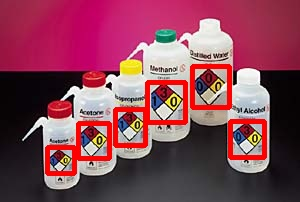nfpa: (147, 82, 185, 122), (192, 66, 229, 107), (230, 121, 264, 157), (78, 123, 109, 158), (115, 109, 145, 145), (47, 147, 74, 173)
